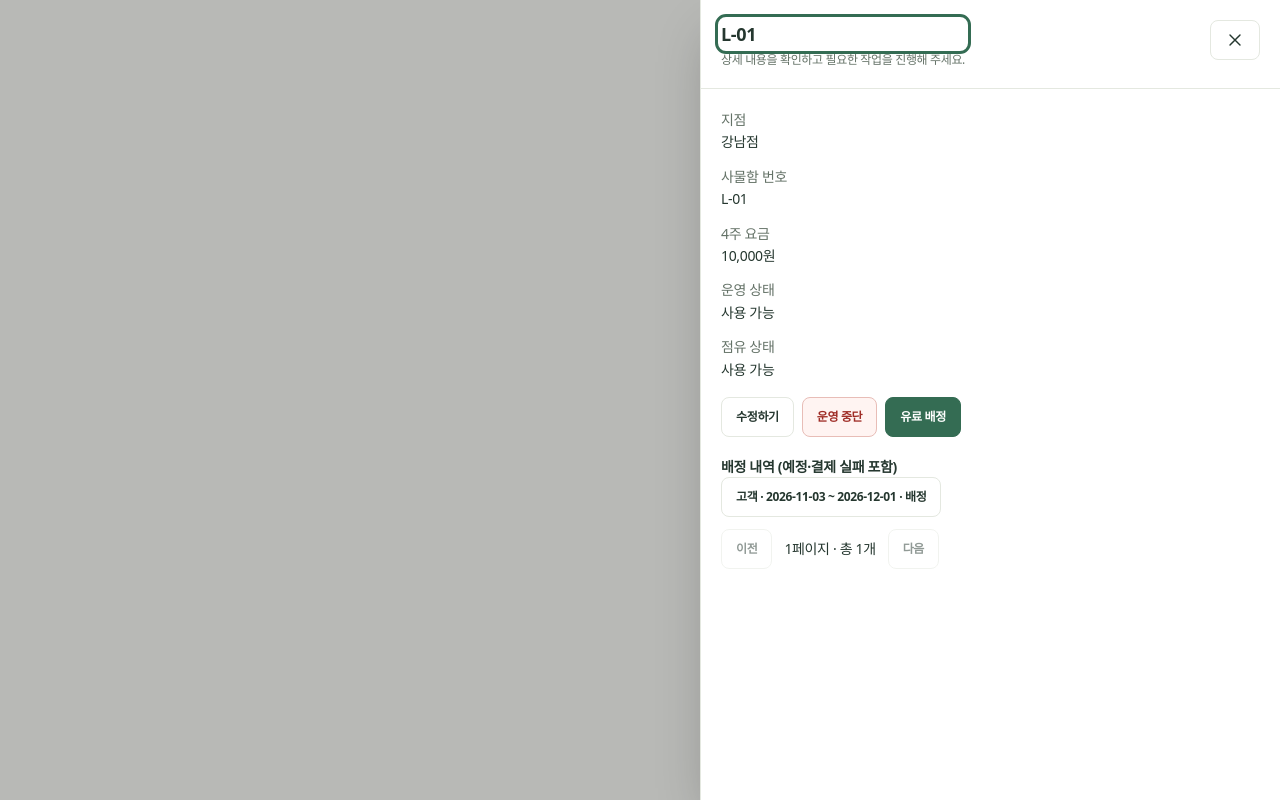
keeps 422 fields and displays field errors
Click the button "수정하기": click(757, 417) [721,397,794,437]
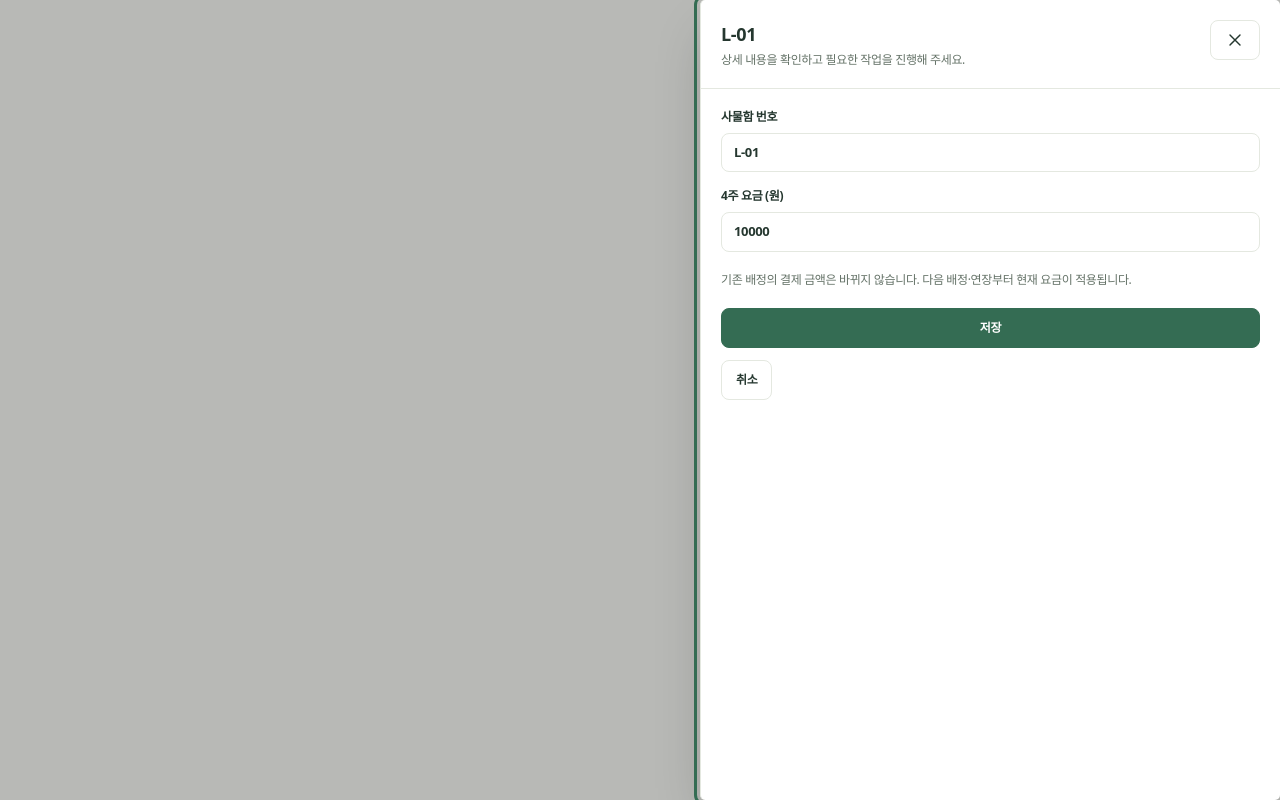
Replace the text in the field labelled "사물함 번호" with "NEW": (990, 153) [721,133,1260,172]
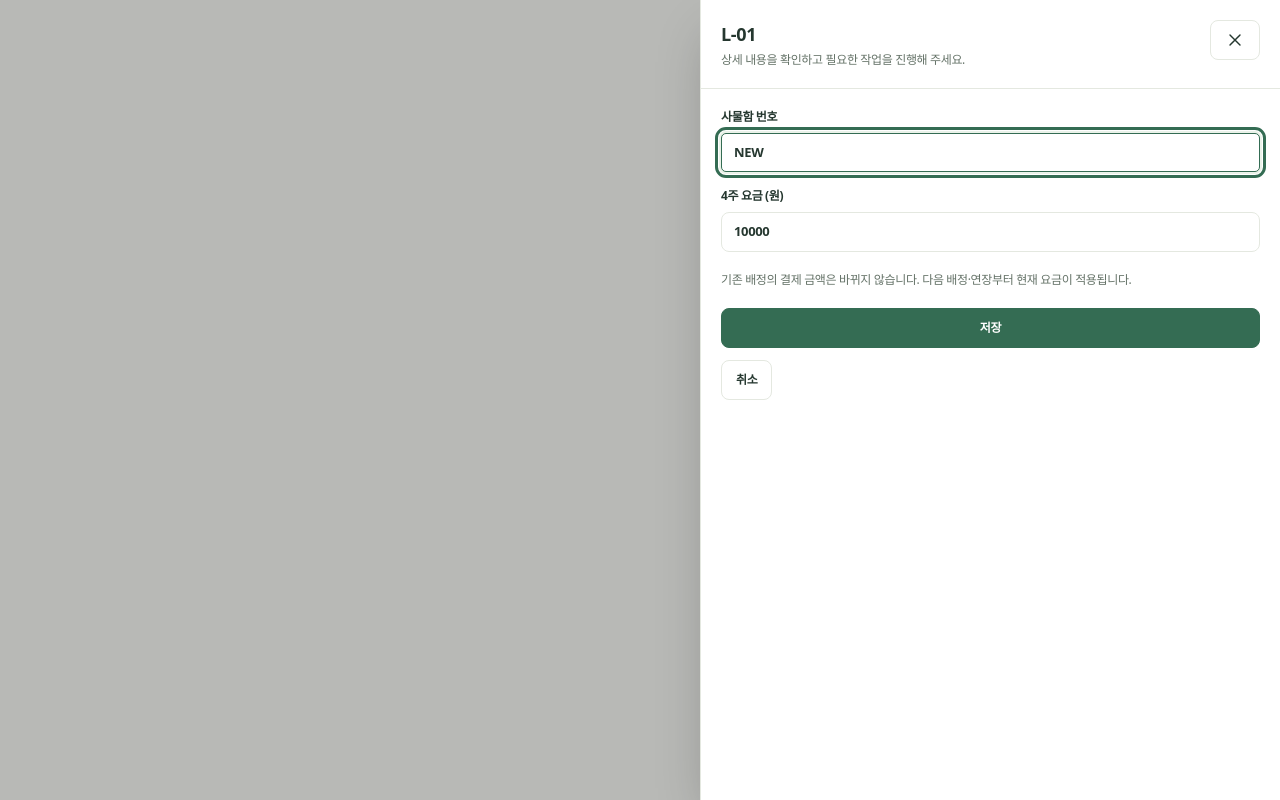
Click the button "저장": click(990, 328) [721,308,1260,348]
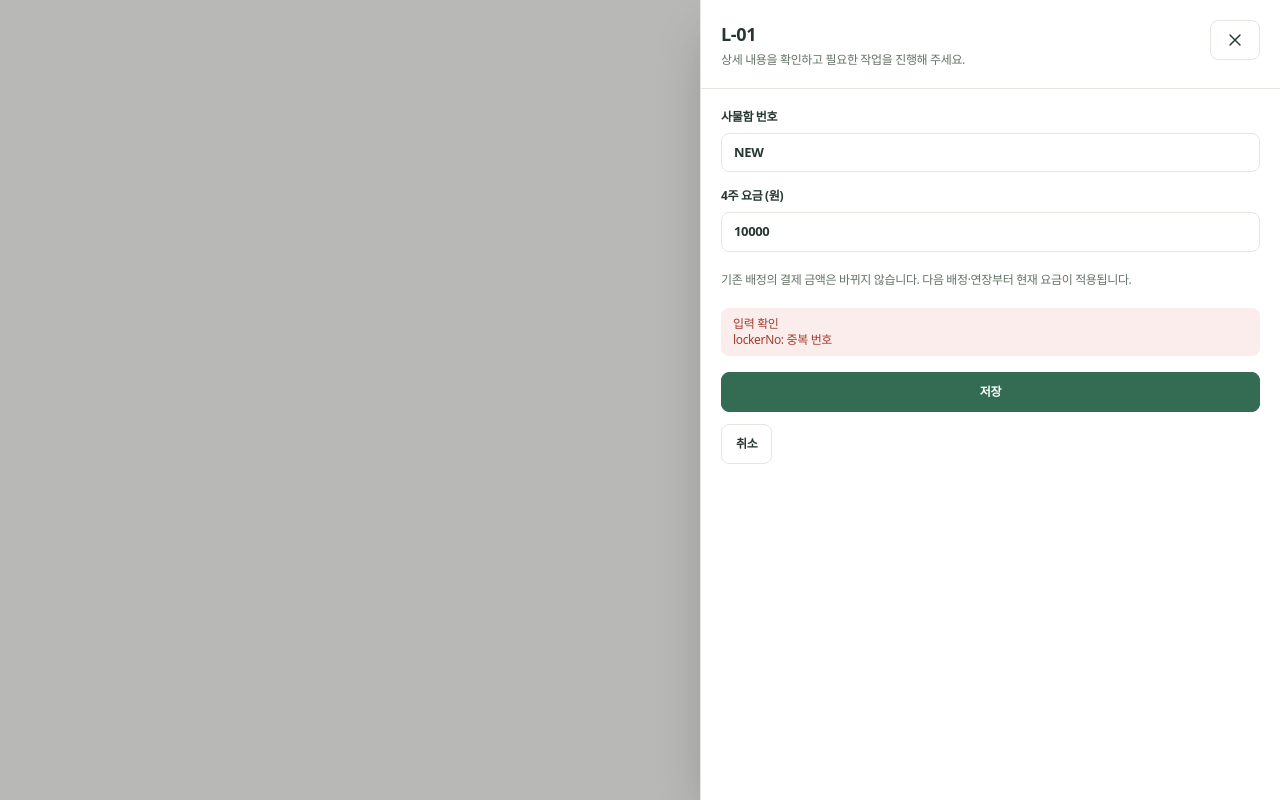
Expected: the text "lockerNo: 중복 번호" is shown, [733,331,832,348]
